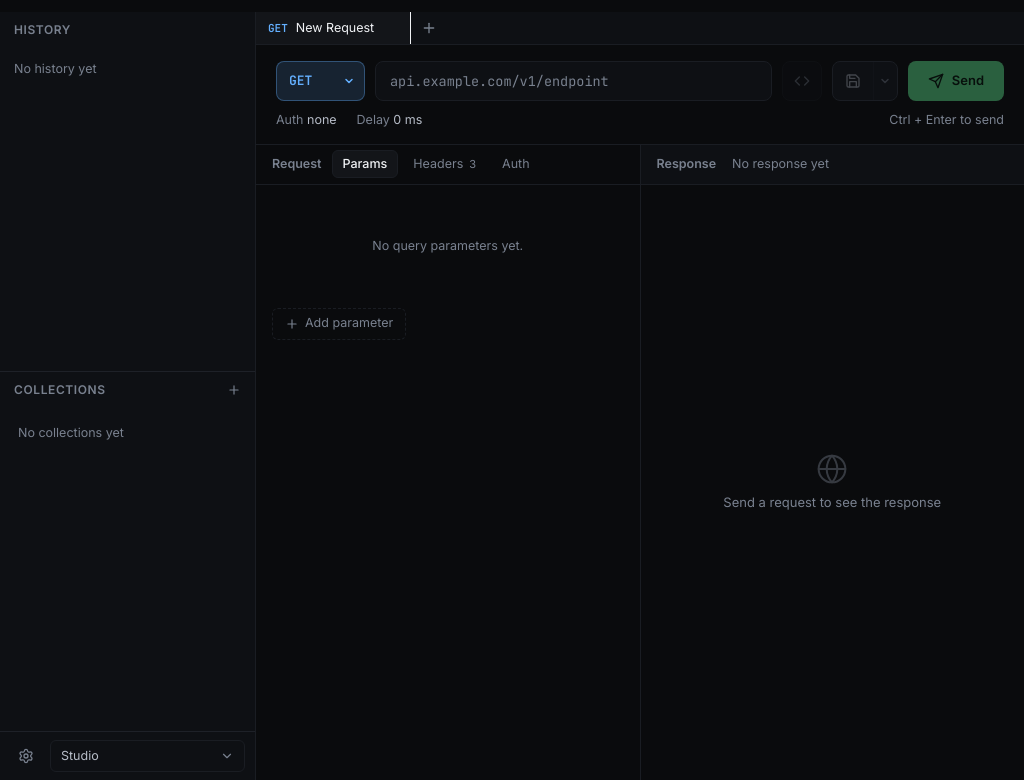
Test: request round trip › reports a failed request without inventing metrics
This screenshot has width=1024, height=780.
Type "https://error.test/v1/charges" into the field named "Request URL" at (573, 81), box [390, 71, 757, 91]
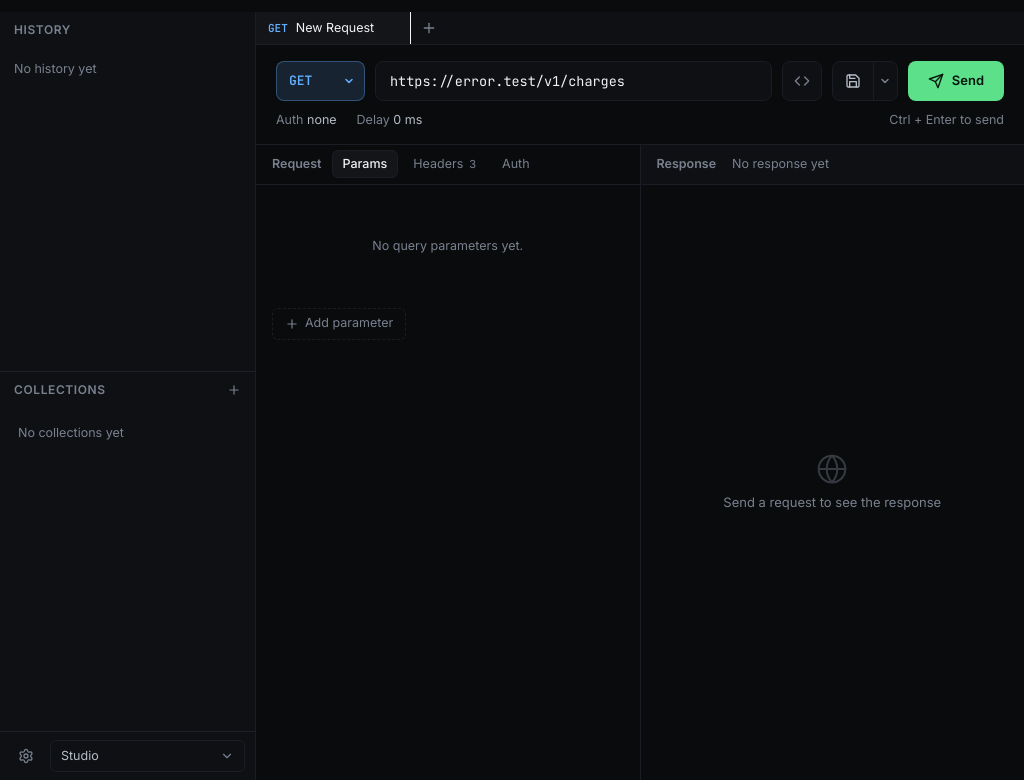
Click the button titled "Send request (Ctrl+Enter)" at (956, 81), box [908, 61, 1004, 101]
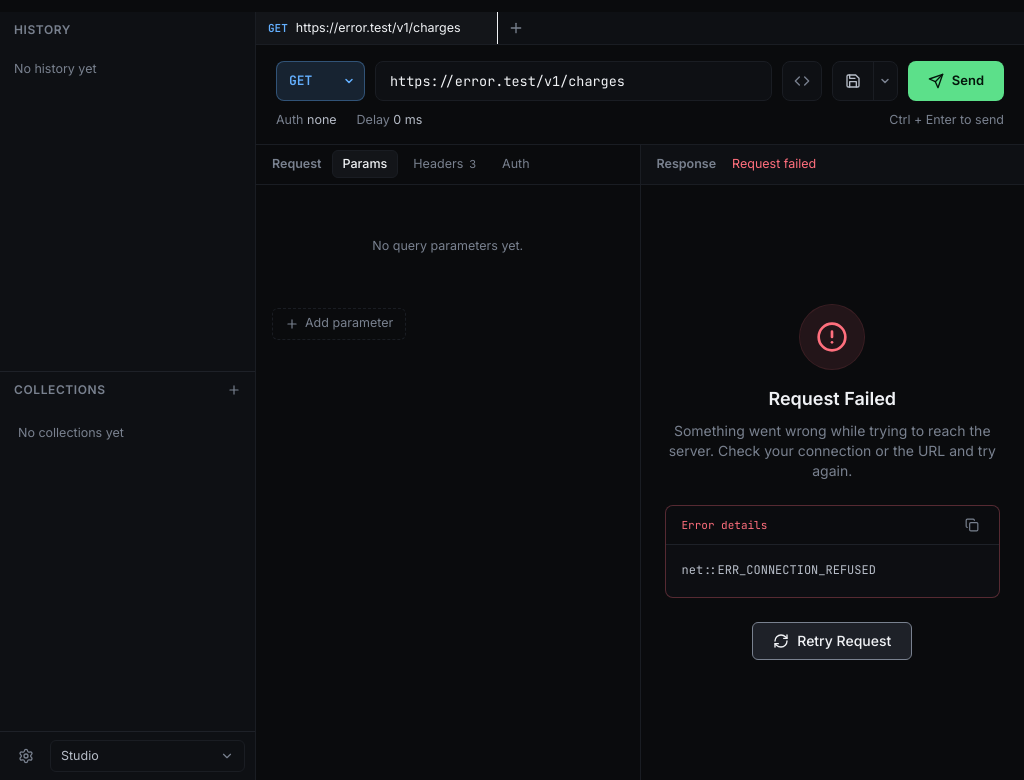
Expected: the text "Request failed" is shown, [732, 155, 816, 174]
Expected: the element labelled "Response" shows "ERR_CONNECTION_REFUSED", [682, 562, 876, 578]
Expected: the element labelled "Response" shows "Retry", [752, 622, 912, 660]
